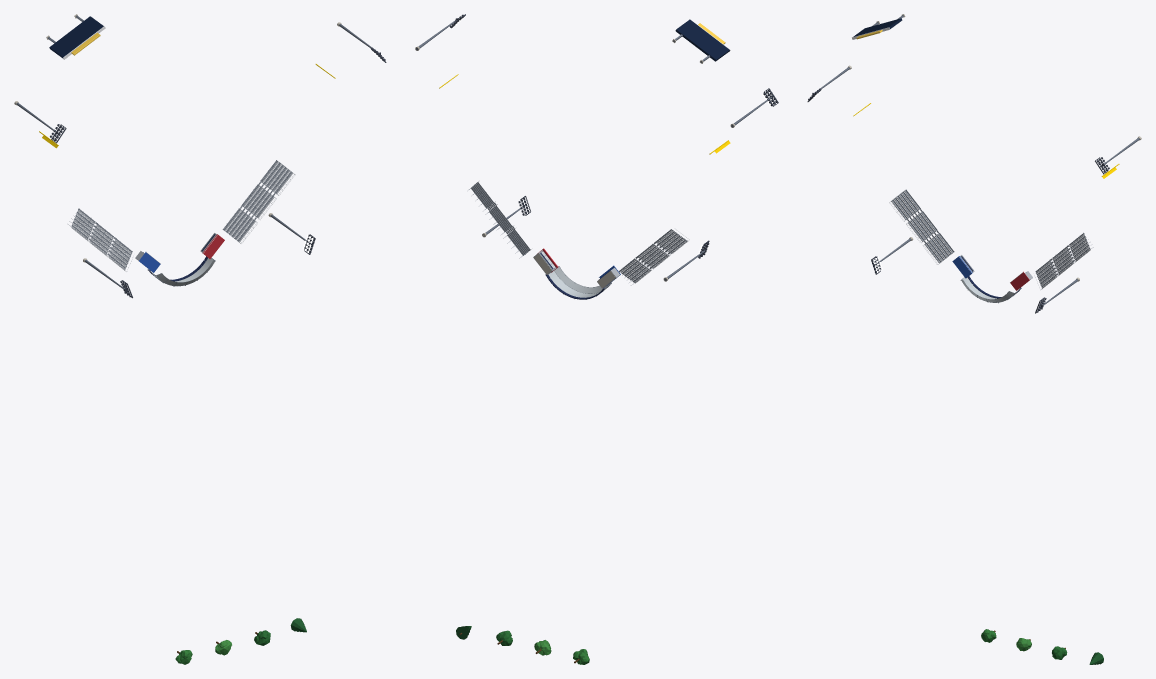
The model's file is ballpark.glb.
3 views of the same model, side by side, from view 1: azimuth 30°, elevation 25°; view 2: azimuth 150°, elevation 25°; view 3: azimuth 330°, elevation 25° (orthographic). The views are drawn at different scales.
Parts seen in each view (by area): view 1: bleachers_1b, bleachers_3b, scoreboard, backstop; view 2: bleachers_3b, scoreboard, bleachers_1b, backstop; view 3: bleachers_3b, bleachers_1b, backstop.
Part boxes in pixels (x1,y1,x2,y2): bleachers_1b: (222, 160, 295, 243); bleachers_3b: (68, 208, 133, 271); scoreboard: (46, 14, 105, 59); backstop: (147, 256, 215, 286); bleachers_3b: (619, 228, 689, 285); scoreboard: (672, 19, 730, 63); bleachers_1b: (469, 181, 531, 258); backstop: (545, 266, 611, 299); bleachers_3b: (889, 189, 954, 264); bleachers_1b: (1034, 232, 1093, 289); backstop: (960, 276, 1021, 303).
Size of the model in its own units: 339 by 658 by 77.5.
